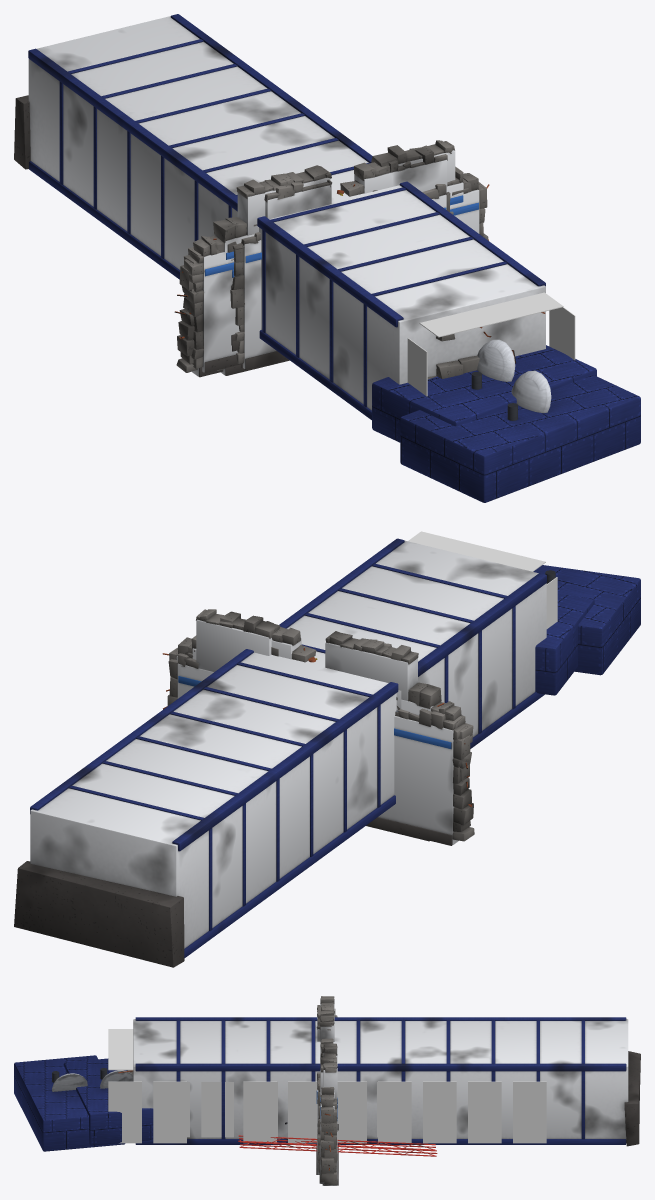
The model's file is Crater.fbx.
The picture shows the model from 3 angles, top to bottom: view 1: azimuth 30°, elevation 25°; view 2: azimuth 150°, elevation 25°; view 3: azimuth 270°, elevation 25°; orthographic projection. The views are drawn at different scales.
Visible parts, largest first — view 1: CraterTower1Body.001, CraterWall6Body.001, CraterTower2Body.001, CraterWall5Body.001, CraterTower1Glass.001, CraterWall1Body.001, CraterWall3Body.001; view 2: CraterTower1Body.001, CraterWall3Body.001, CraterWall1Body.001, CraterTower2Body.001, CraterTower1Glass.001, CraterWall6Body.001; view 3: CraterTower1Body.001, CraterTower1Glass.001, CraterTower2Body.001, CraterTower2Glass.001, CraterWall6Body.001, CraterWall3Body.001, CraterWall1Body.001, CraterWall5Body.001.
Boxes of the visible parts, box(x1,y1,x2,y2) form: CraterTower1Body.001: box(14, 14, 640, 502); CraterWall6Body.001: box(179, 145, 489, 372); CraterTower2Body.001: box(372, 339, 596, 442); CraterWall5Body.001: box(230, 179, 453, 369); CraterTower1Glass.001: box(407, 292, 575, 396); CraterWall1Body.001: box(210, 165, 471, 375); CraterWall3Body.001: box(174, 140, 455, 377); CraterTower1Body.001: box(14, 538, 640, 967); CraterWall3Body.001: box(166, 609, 474, 845); CraterWall1Body.001: box(185, 631, 443, 841); CraterTower2Body.001: box(535, 593, 594, 695); CraterTower1Glass.001: box(408, 531, 557, 628); CraterWall6Body.001: box(162, 611, 473, 806); CraterTower1Body.001: box(14, 1017, 640, 1156); CraterTower1Glass.001: box(108, 1029, 546, 1143); CraterTower2Body.001: box(63, 1058, 435, 1149); CraterTower2Glass.001: box(187, 1082, 377, 1137); CraterWall6Body.001: box(319, 1038, 334, 1183); CraterWall3Body.001: box(322, 1015, 338, 1185); CraterWall1Body.001: box(320, 996, 335, 1183); CraterWall5Body.001: box(316, 1005, 330, 1174).
Bounding box in the file's own units: 33.82 × 18.73 × 88.68.
21 materials, 21 textured.
